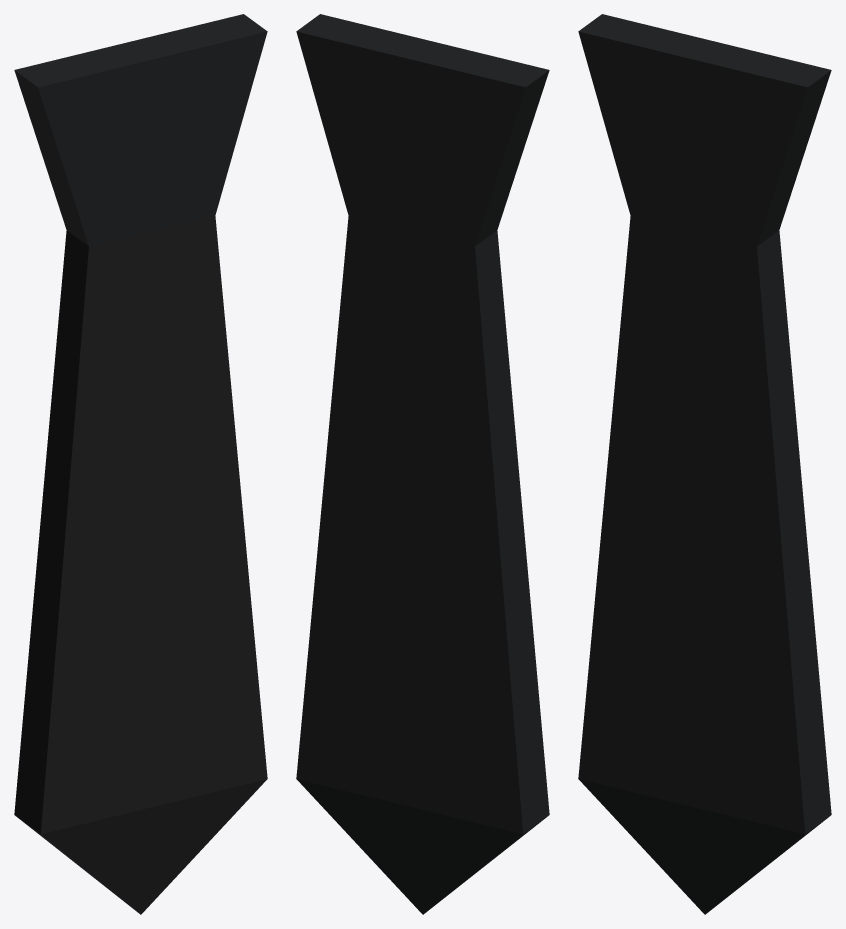
File: Tie.fbx
The picture shows the model from 3 angles, left to right: view 1: azimuth 30°, elevation 25°; view 2: azimuth 150°, elevation 25°; view 3: azimuth 330°, elevation 25°; orthographic projection.
Parts seen in each view (by area): view 1: Cube.005; view 2: Cube.005; view 3: Cube.005.
Boxes of the visible parts, <box> form: Cube.005: <box>14,14,267,914</box>; Cube.005: <box>296,14,549,914</box>; Cube.005: <box>578,14,831,914</box>.
Size of the model in its own units: 10.38 by 37.35 by 2.07.
